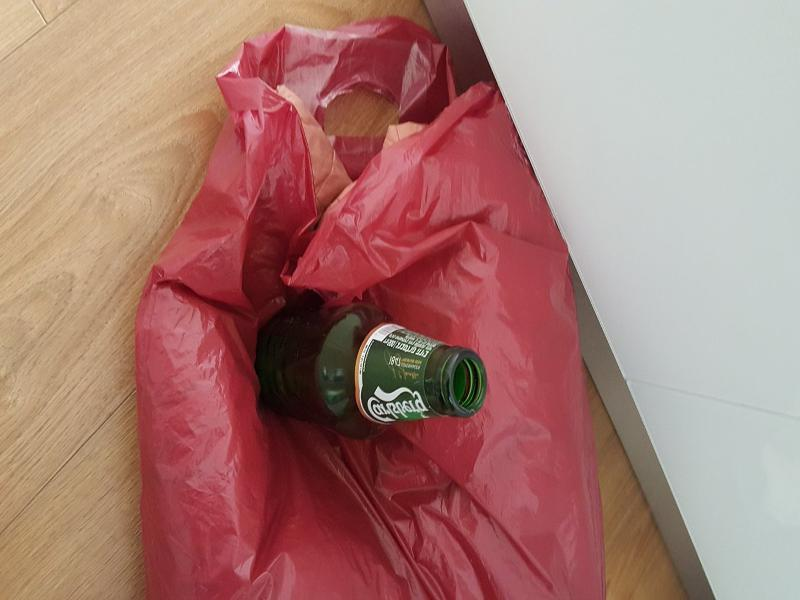Beer: (253, 302, 484, 437)
